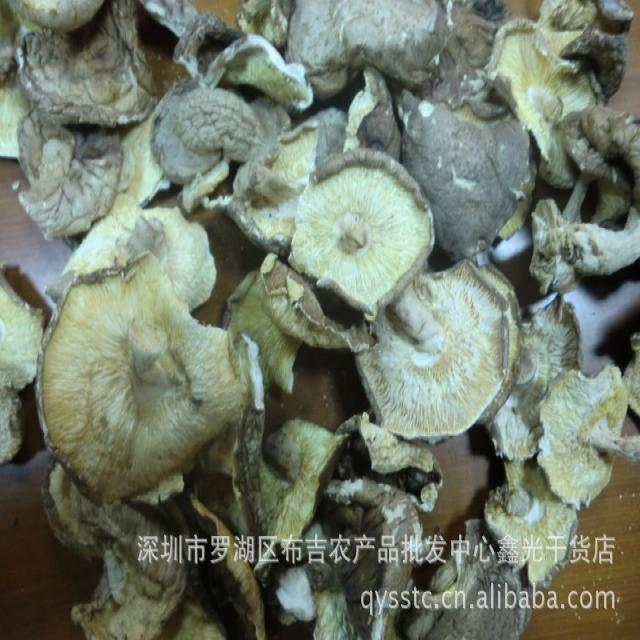Lentinus edodes: (39, 256, 264, 502), (357, 264, 525, 440), (289, 153, 437, 310), (483, 19, 598, 159), (405, 521, 530, 638), (539, 365, 640, 509), (485, 464, 586, 586)
